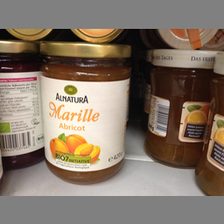jam: (39, 41, 134, 183), (146, 49, 217, 168), (1, 40, 46, 171)
